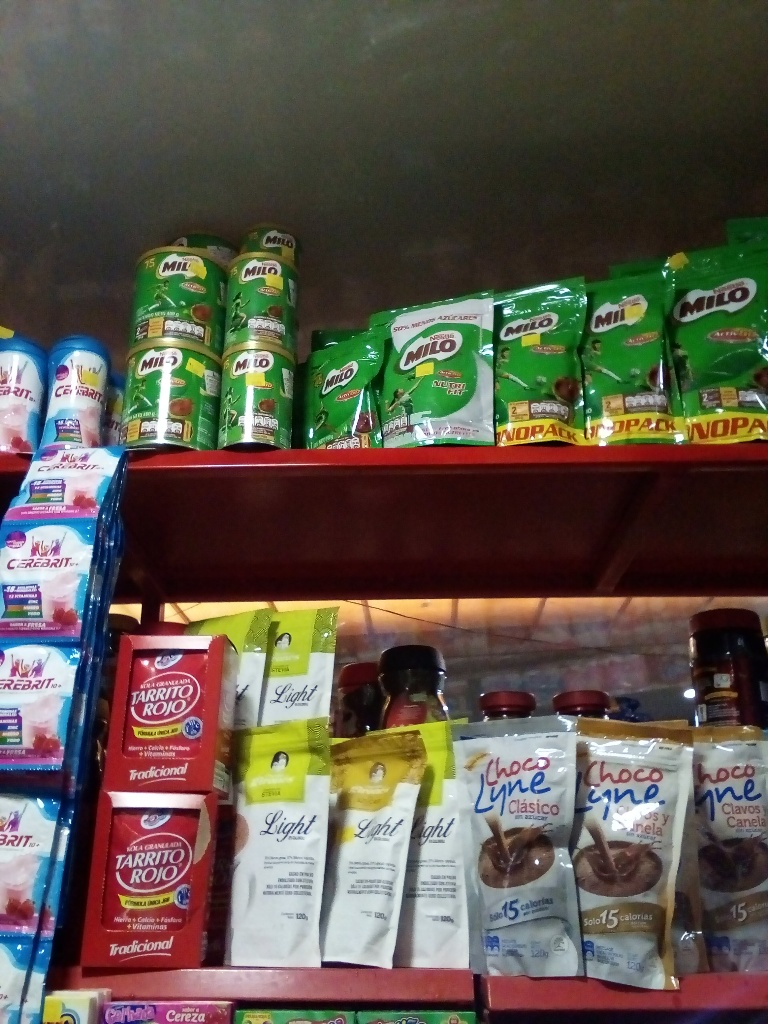COL0170203DYP10000: (306, 326, 387, 449)
COL0170203DYP25000: (577, 266, 670, 445)
COL0170203DYP50000: (661, 249, 766, 442)
COL0170203LAT20000: (224, 250, 296, 348)
COL0170203LAT40000: (134, 250, 230, 352)
COL0170205DYP20000: (377, 295, 492, 443)
